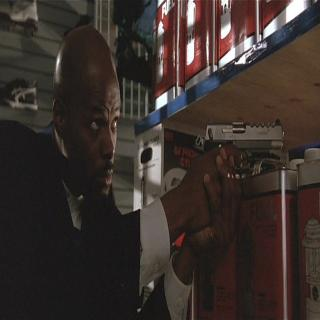gun: (200, 112, 288, 249)
